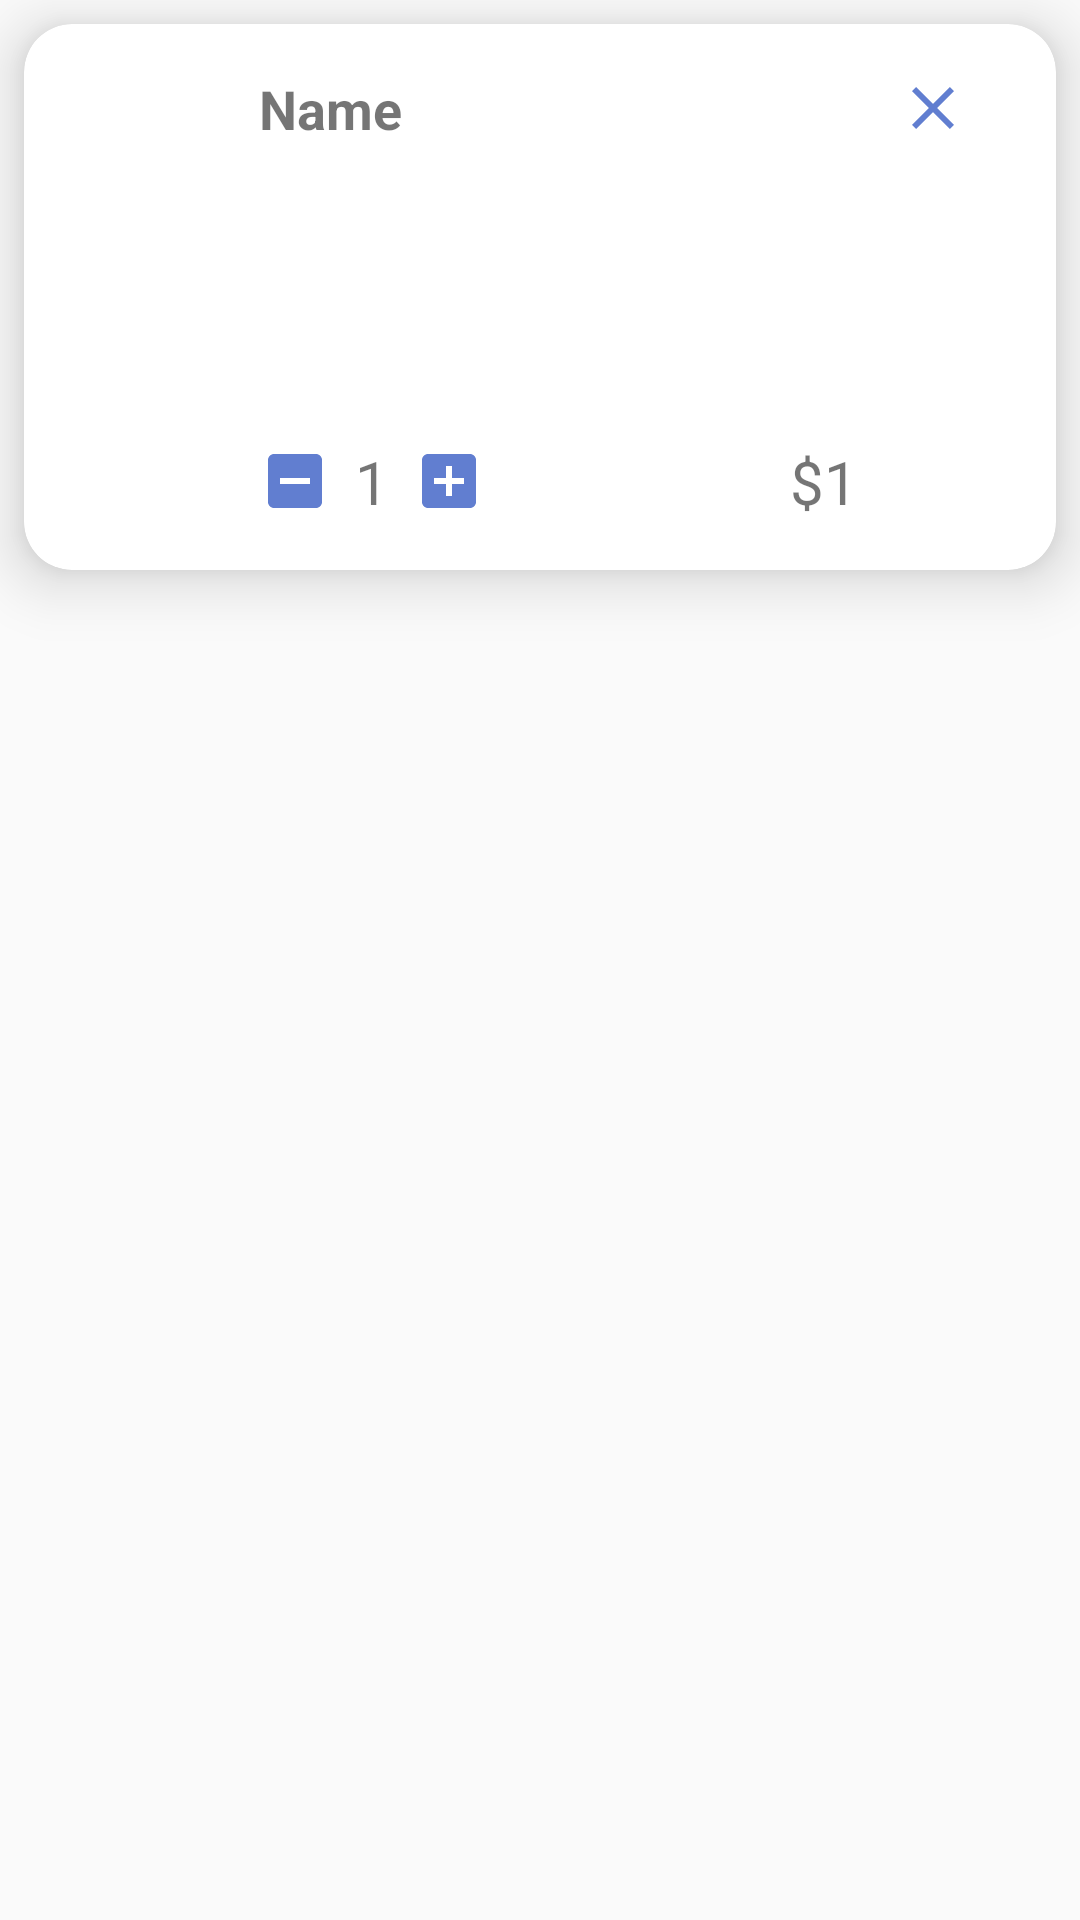

Where icons sit on this 1080 x 1920 app screen, as (x1, y1, x2, y2):
add box: (422, 454, 476, 508)
clear: (912, 87, 954, 129)
indeterminate check box: (268, 454, 322, 508)
